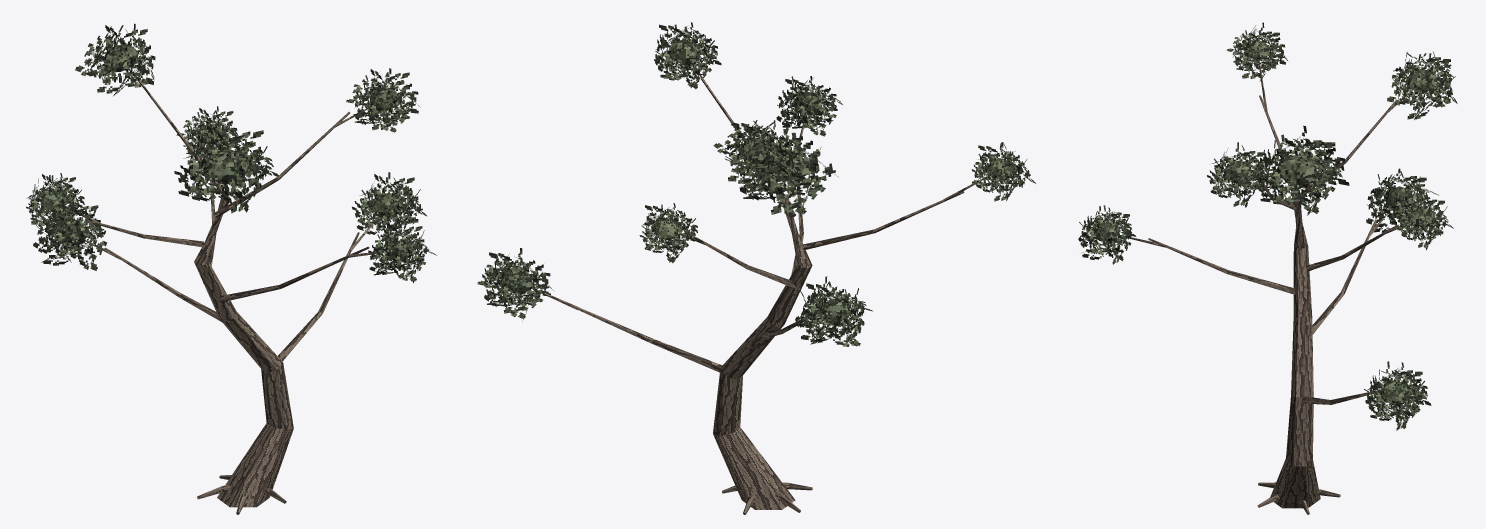
The model's file is TREE_Sparse_A_LOD1.glb.
The picture shows the model from 3 angles, left to right: view 1: azimuth 30°, elevation 25°; view 2: azimuth 150°, elevation 25°; view 3: azimuth 270°, elevation 25°; orthographic projection. The views are drawn at different scales.
Visible parts, largest first — view 1: TREE_Sparse_A_LOD1__Card, TREE_Sparse_A_LOD1__Bark, TREE_Sparse_A_LOD1__Foliage; view 2: TREE_Sparse_A_LOD1__Card, TREE_Sparse_A_LOD1__Bark, TREE_Sparse_A_LOD1__Foliage; view 3: TREE_Sparse_A_LOD1__Card, TREE_Sparse_A_LOD1__Bark, TREE_Sparse_A_LOD1__Foliage.
Boxes of the visible parts, x1,y1,x2,y2 form: TREE_Sparse_A_LOD1__Card: (26, 23, 436, 283); TREE_Sparse_A_LOD1__Bark: (65, 68, 385, 514); TREE_Sparse_A_LOD1__Foliage: (41, 45, 414, 261); TREE_Sparse_A_LOD1__Card: (477, 22, 1035, 346); TREE_Sparse_A_LOD1__Bark: (531, 61, 987, 514); TREE_Sparse_A_LOD1__Foliage: (499, 39, 1013, 324); TREE_Sparse_A_LOD1__Card: (1078, 22, 1457, 430); TREE_Sparse_A_LOD1__Bark: (1124, 60, 1412, 514); TREE_Sparse_A_LOD1__Foliage: (1094, 40, 1437, 404).
Bounding box in the file's own units: 9.91 × 8.7 × 7.54.
Materials: 3 (3 with a texture image).
